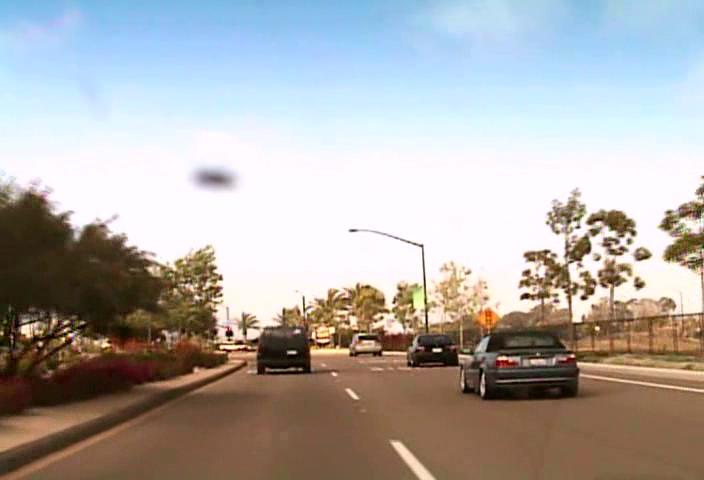signalAhead: (475, 306, 500, 330)
